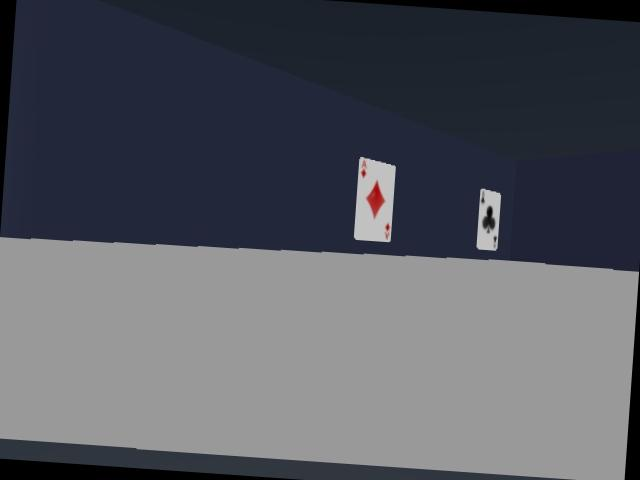club: (476, 189, 500, 250)
diamond: (354, 158, 395, 241)
